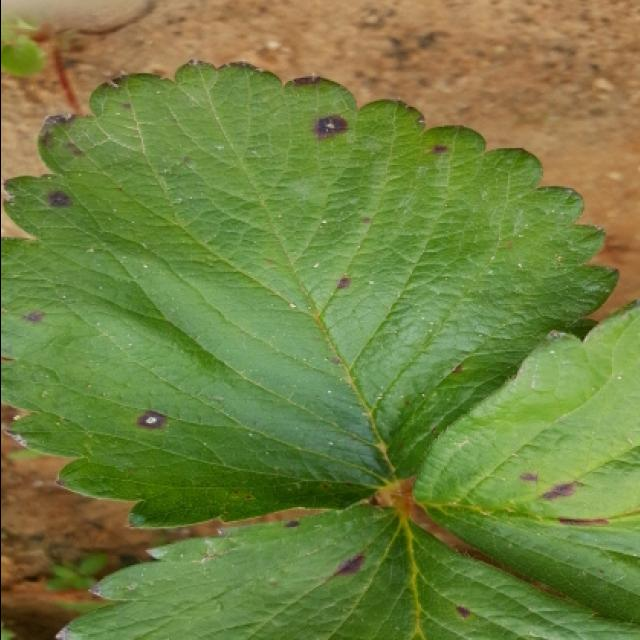Leaf Spot: (2, 58, 619, 528), (49, 503, 640, 640)
